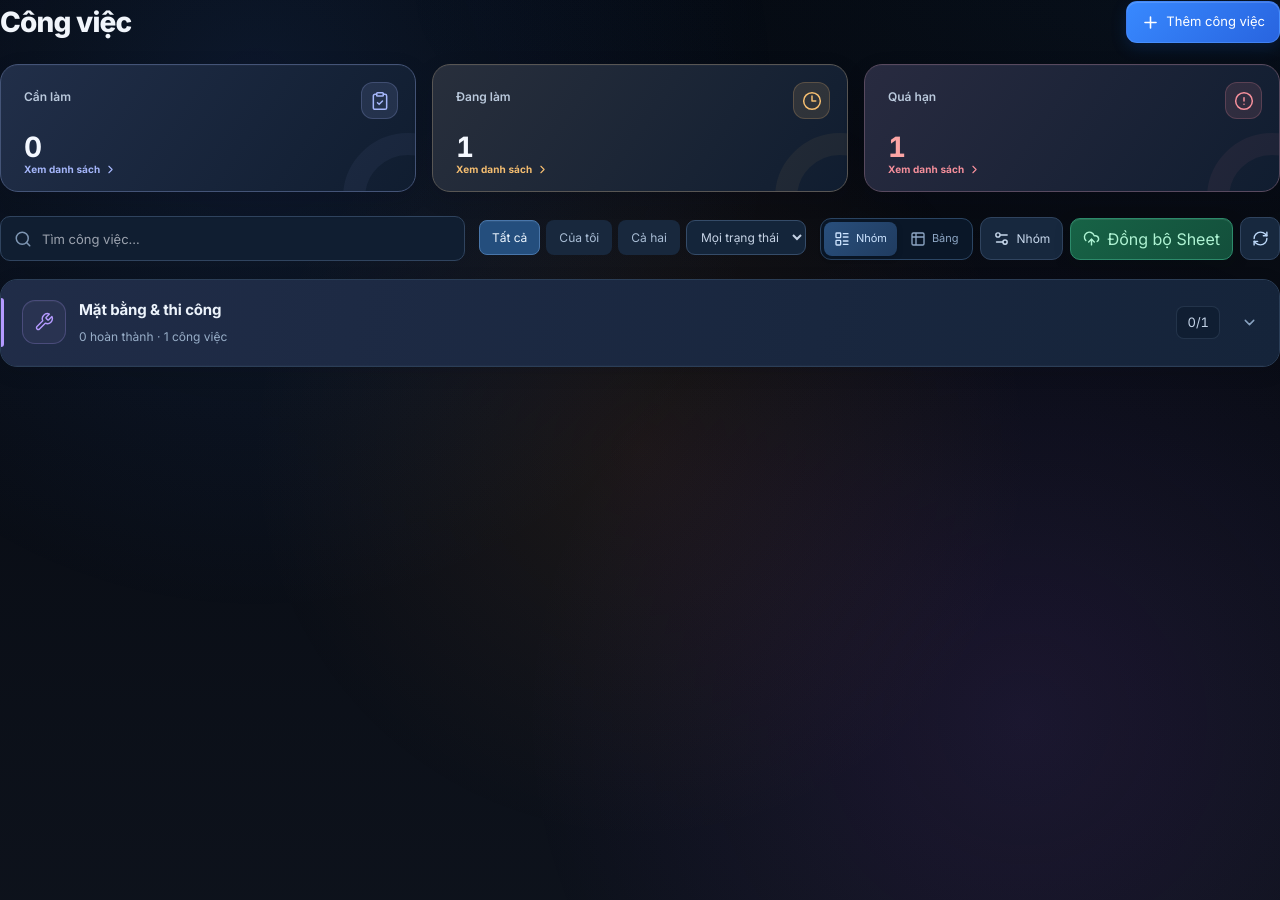
Checklist and Budget interactions › starts tasks collapsed and sync resets open groups, search and filters
Click the button "Mặt bằng & thi công 0 hoàn thành · 1 công việc 0/1" at x=44, y=322, box left=1, top=280, right=1279, bottom=366
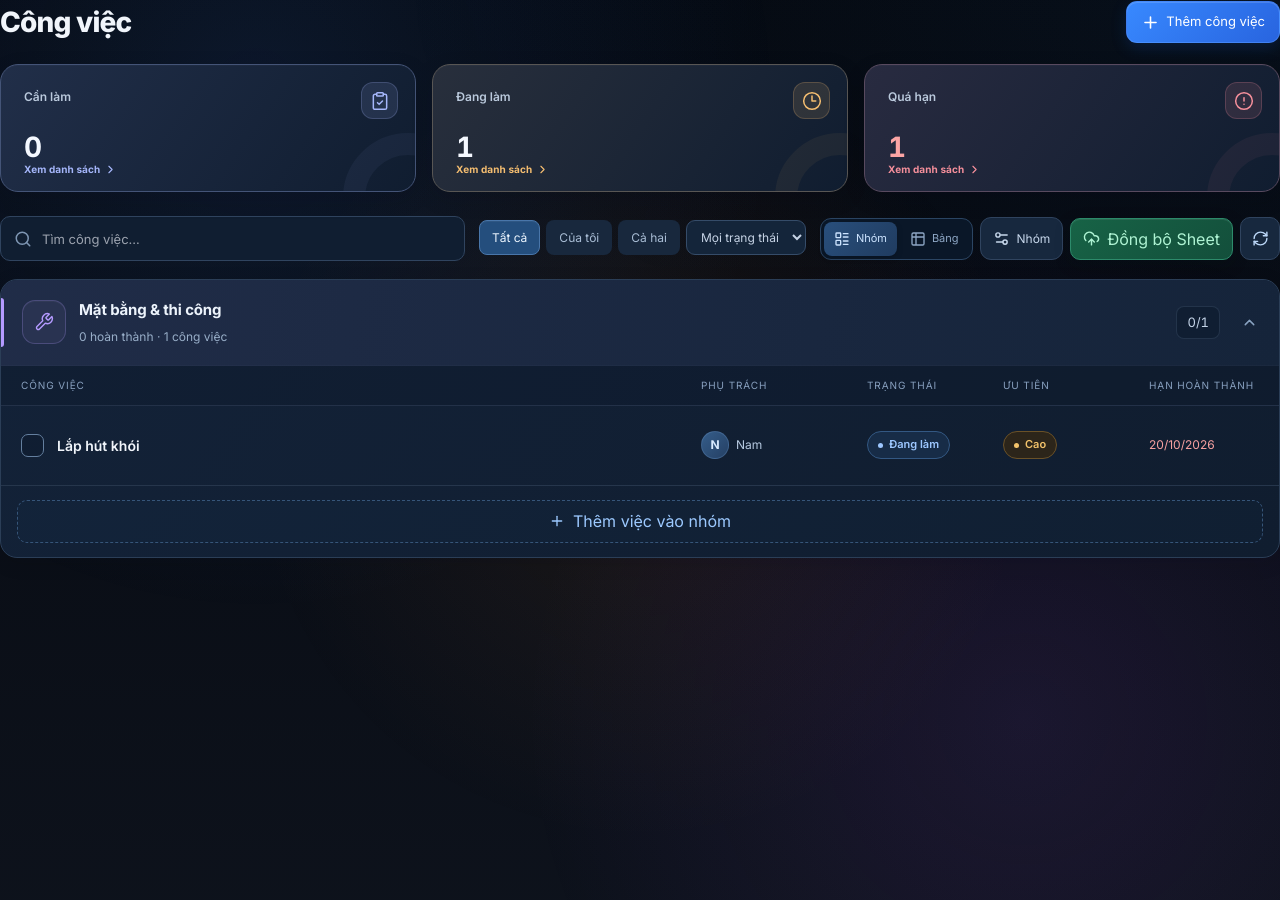
Result: the button "Mặt bằng & thi công 0 hoàn thành · 1 công việc 0/1" is expanded at left=1, top=280, right=1279, bottom=366
Type "hút" into the field named "Tìm kiếm" at x=246, y=238, box left=42, top=217, right=451, bottom=260
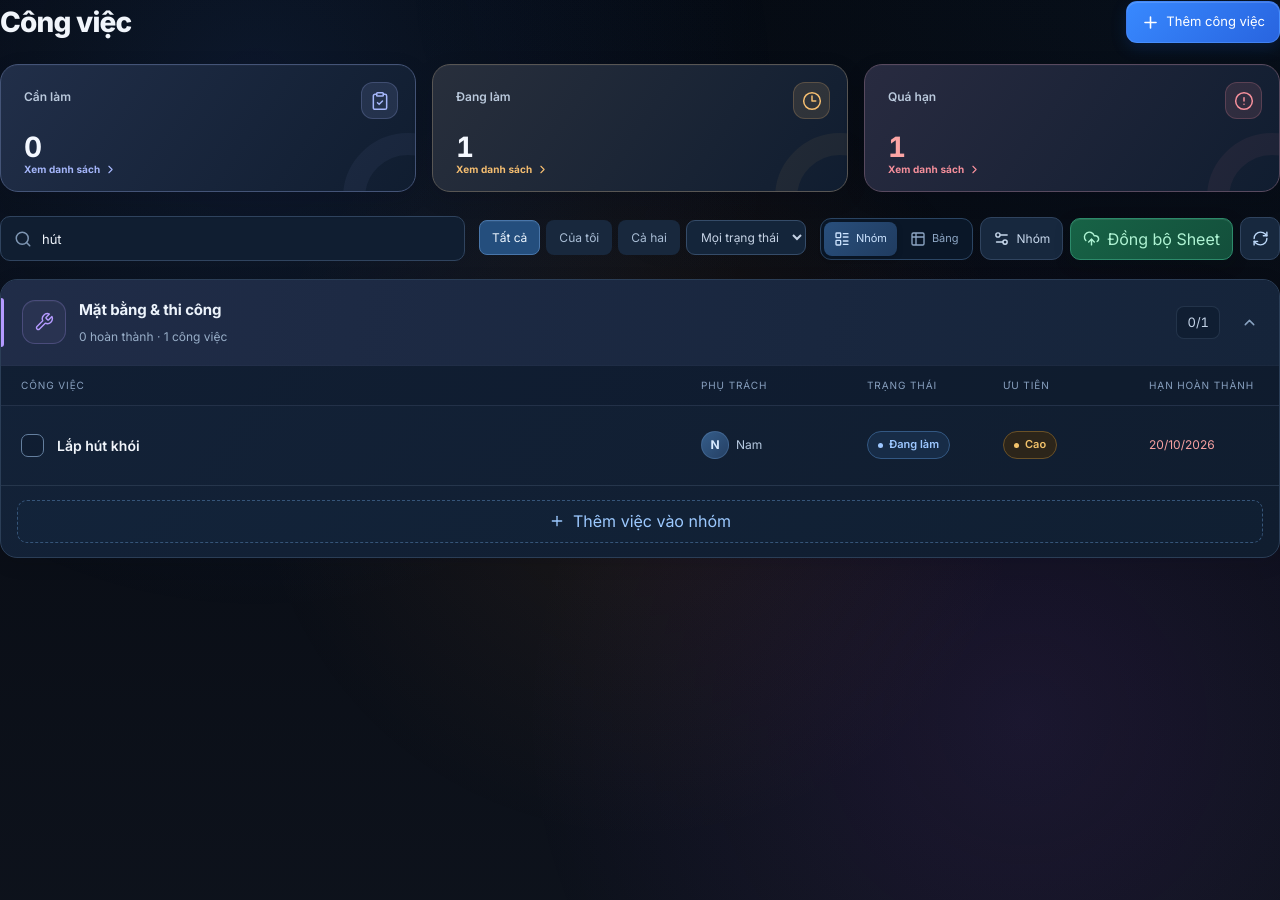
Click the button "Của tôi" at x=579, y=238, box left=546, top=220, right=612, bottom=255
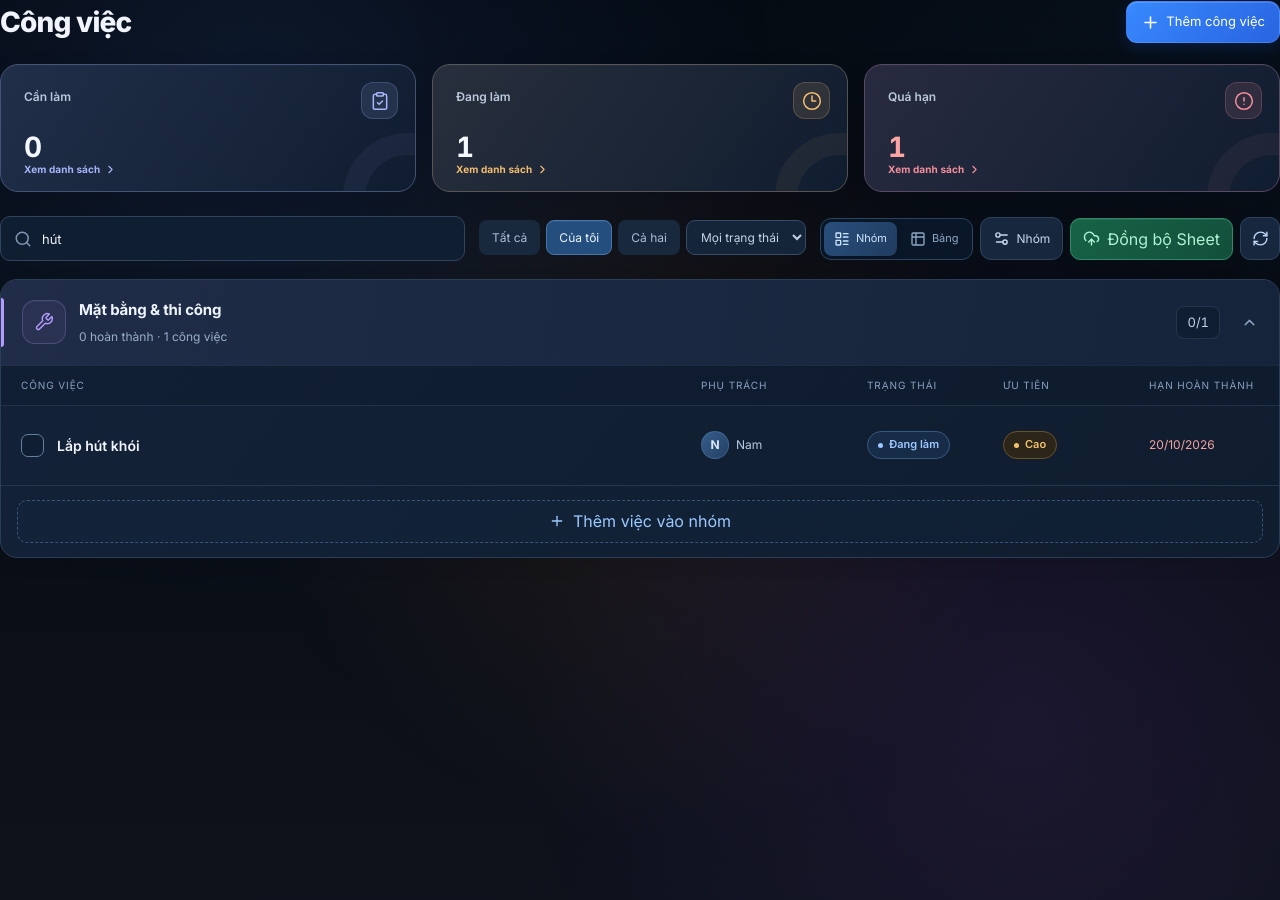
Click the button named "Tải lại dữ liệu" at x=1260, y=238, box left=1240, top=217, right=1279, bottom=260
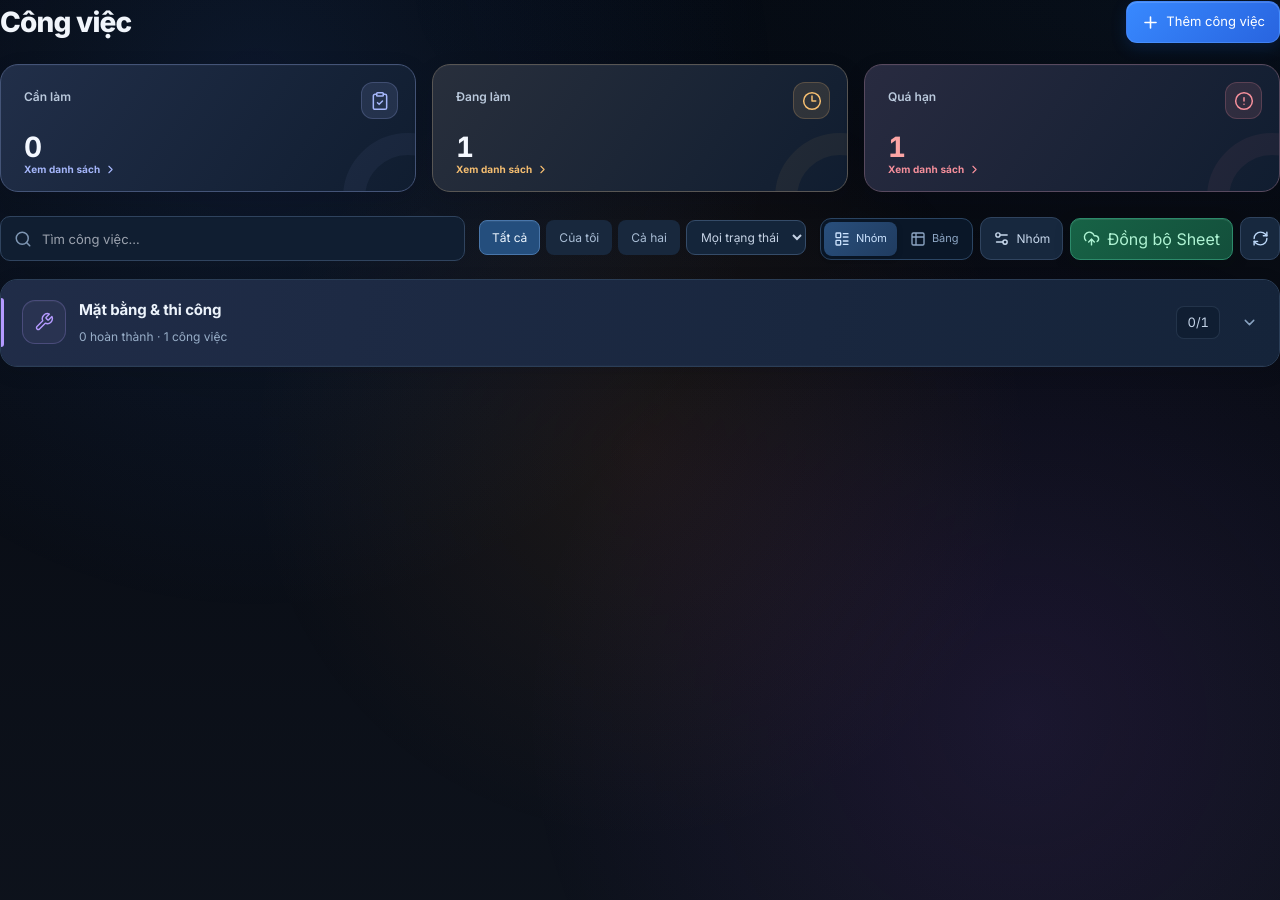
Result: the field named "Tìm kiếm" is empty at left=42, top=217, right=451, bottom=260
Result: the button "Mặt bằng & thi công 0 hoàn thành · 1 công việc 0/1" is collapsed at left=1, top=280, right=1279, bottom=366
